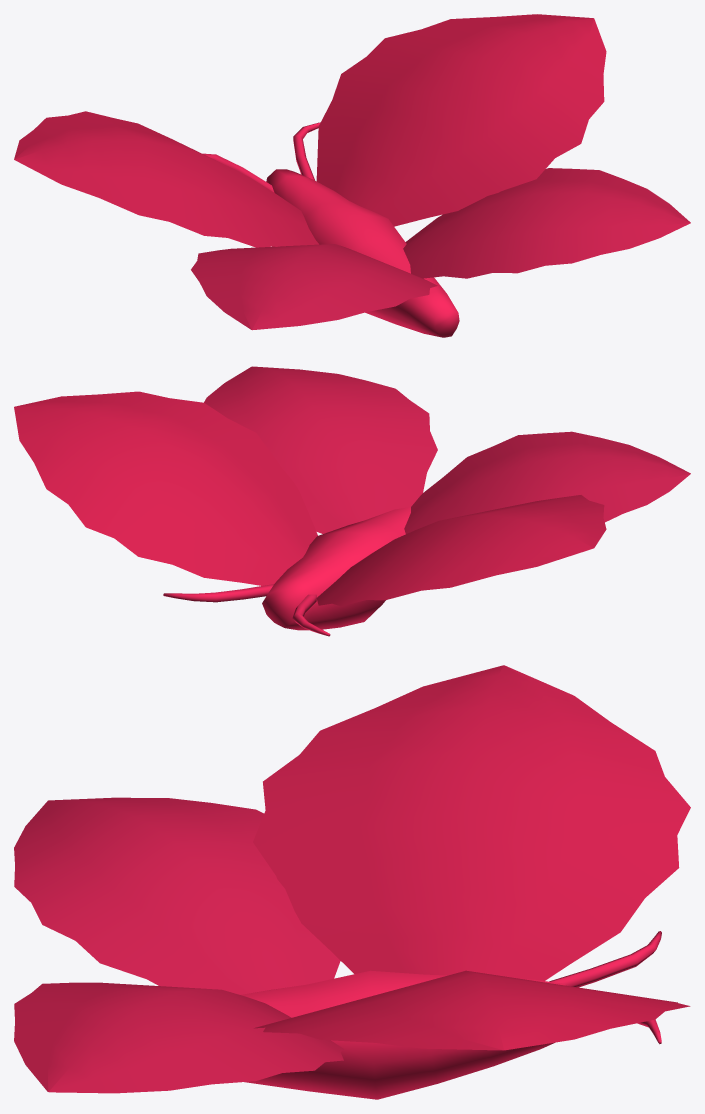
Rendered from SM_LW_GardenMoth.fbx.
3 views of the same model, one above another, from view 1: azimuth 30°, elevation 25°; view 2: azimuth 150°, elevation 25°; view 3: azimuth 270°, elevation 25° (orthographic). The views are drawn at different scales.
Parts seen in each view (by area): view 1: SM_LW_GardenMoth; view 2: SM_LW_GardenMoth; view 3: SM_LW_GardenMoth.
Boxes of the visible parts, left/top/right/bottom form: SM_LW_GardenMoth: left=14, top=14, right=690, bottom=337; SM_LW_GardenMoth: left=14, top=366, right=690, bottom=636; SM_LW_GardenMoth: left=14, top=665, right=690, bottom=1099.
Size of the model in its own units: 10.4 by 14 by 4.17.
